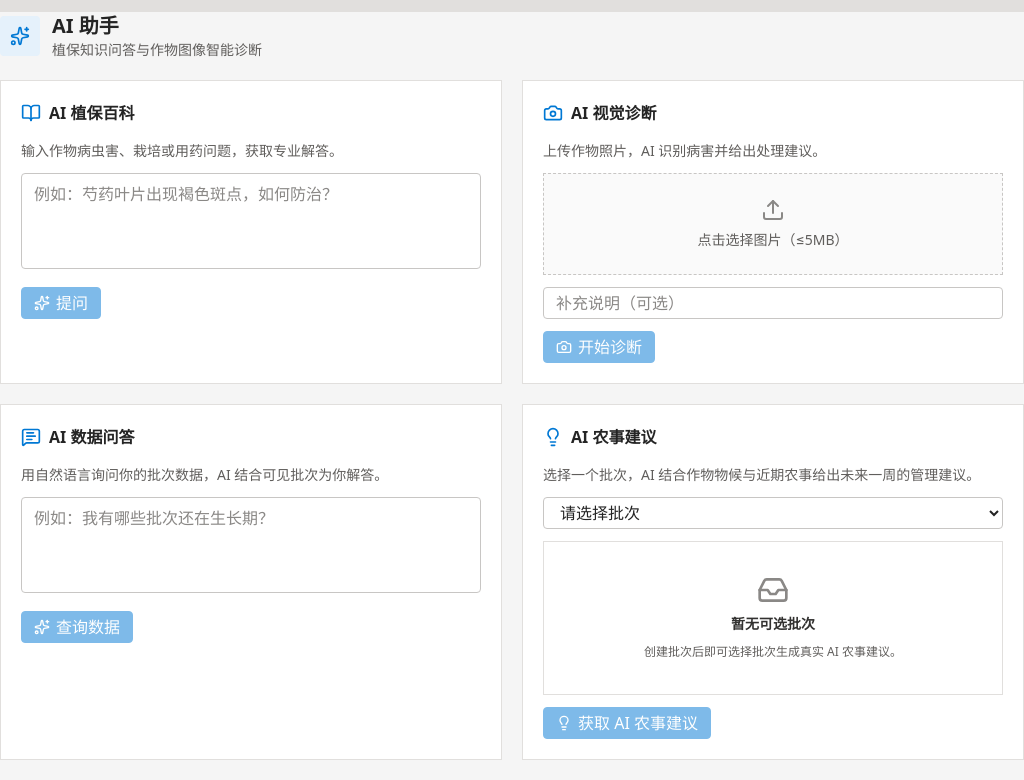
Test: AiAssistant Fluent production AI surface › asks visible batch data through aiAsk from the embedded data Q&A card
Type "  哪些批次需要浇水  " into the text box with placeholder "例如：我有哪些批次还在生长期？" at (251, 545), box x1=21 y1=497 x2=481 y2=593
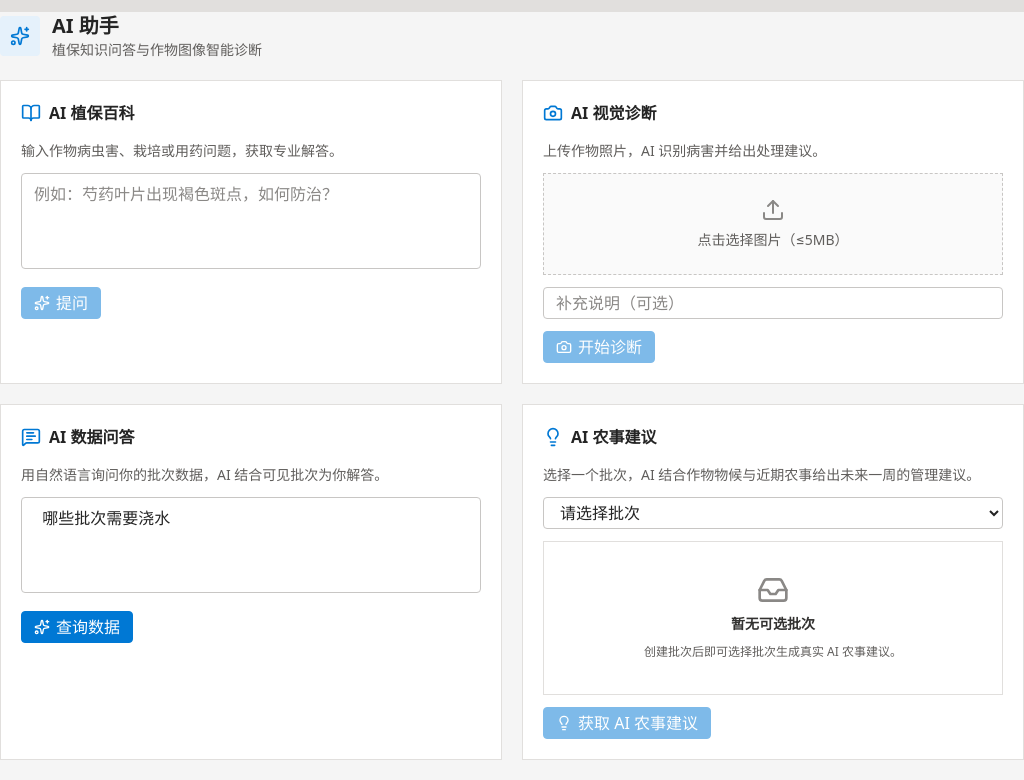
Click the button "查询数据" at (77, 627), box x1=21 y1=611 x2=133 y2=643
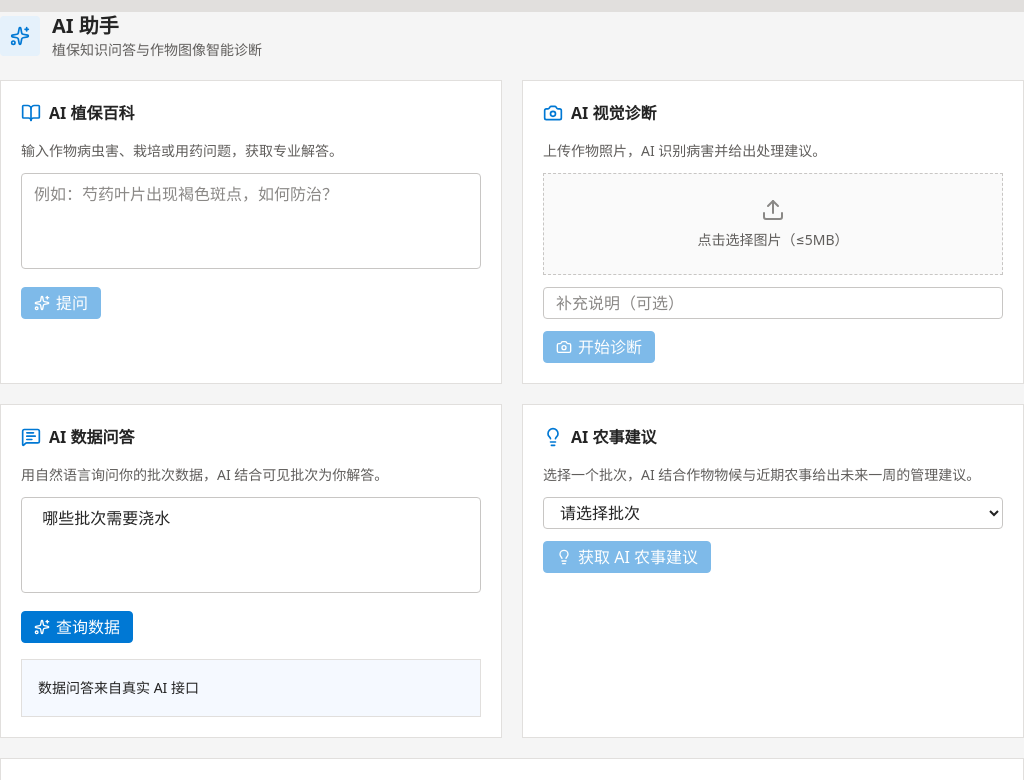
Expected: the text "数据问答来自真实 AI 接口" is shown, x1=21 y1=659 x2=481 y2=717
